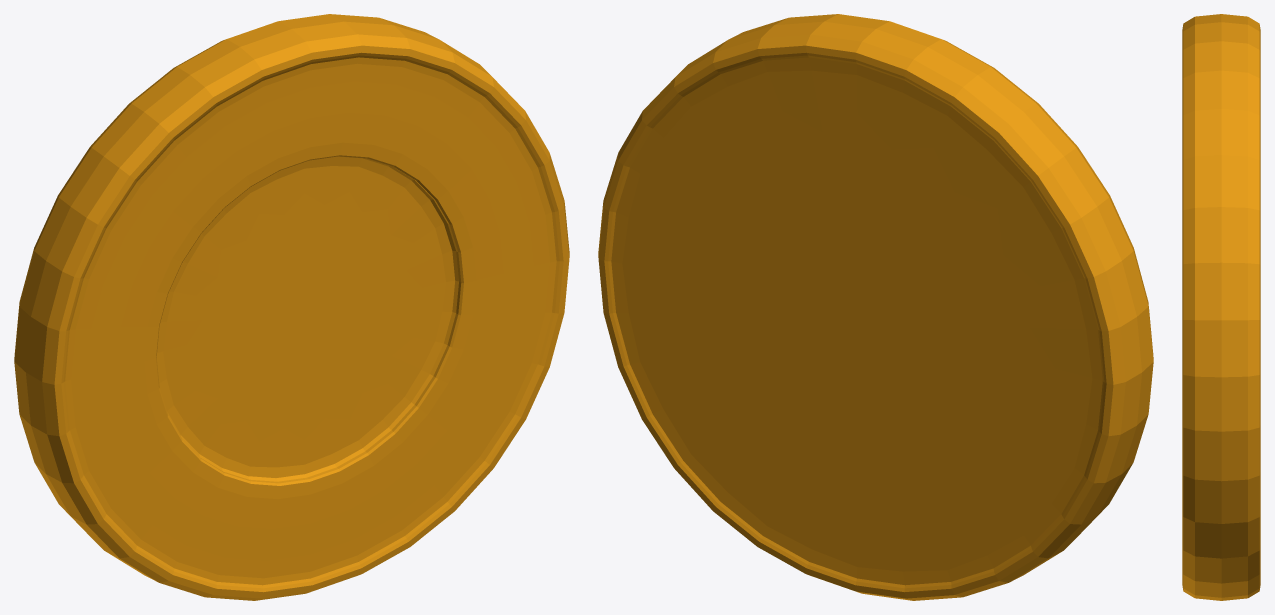
File: SM_Coin_L.fbx
3 renders of one model, left to right at view 1: azimuth 30°, elevation 25°; view 2: azimuth 150°, elevation 25°; view 3: azimuth 270°, elevation 25°, orthographic. The views are drawn at different scales.
Visible parts, largest first — view 1: Coin_L; view 2: Coin_L; view 3: Coin_L.
Boxes of the visible parts, x1,y1,x2,y2 form: Coin_L: [14, 14, 569, 600]; Coin_L: [598, 14, 1153, 600]; Coin_L: [1182, 14, 1260, 600].
Size of the model in its own units: 75 by 75 by 10.
